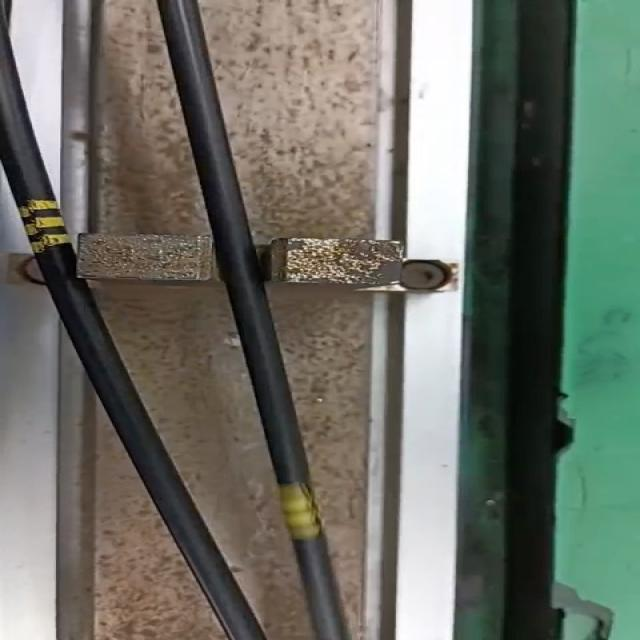yellow: (12, 202, 74, 251)
